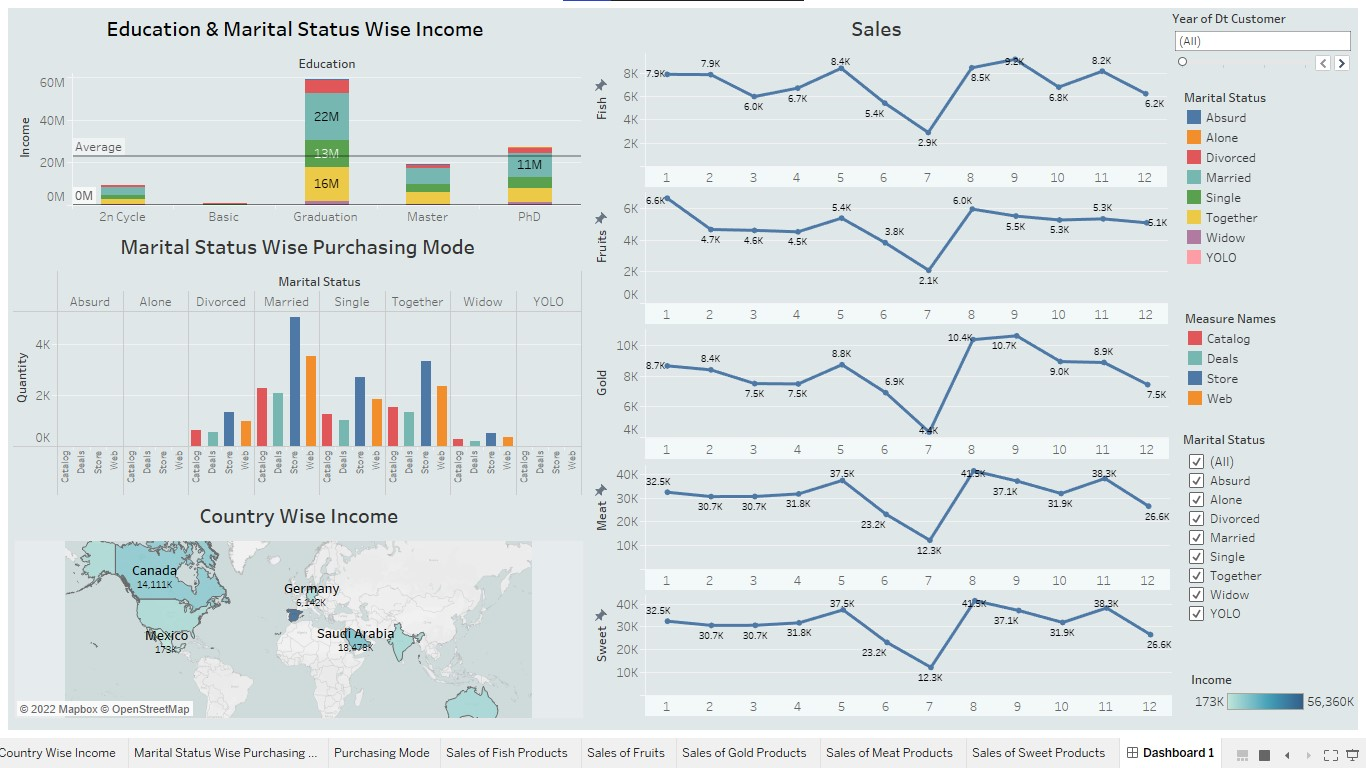

The page's visual inventory and layout, read from the dashboard file:
{"tool":"tableau","page":{"name":"Dashboard 1","canvas":[1000,1000],"units":"permille","ordinal":0},"visuals":[{"type":"worksheet","title":"Education & Marital Status Wise Income","mark":"Automatic","rows":["Income"],"cols":["Education"],"box":[6.9,13.5,418.4,292.2]},{"type":"worksheet","title":"Sales of Fish Products","mark":"Automatic","rows":["MntFishProducts"],"cols":["Dt_Customer"],"box":[429.1,13.5,425.4,239.9]},{"type":"filter","title":"Education & Marital Status Wise Income","param":"[federated.1705k4r06t32o11a5gyls11ckwc0].[yr:Dt_Customer:ok]","box":[858.2,13.5,133.1,126.7]},{"type":"legend","title":"Education & Marital Status Wise Income","param":"[federated.1705k4r06t32o11a5gyls11ckwc0].[none:Marital_Status:nk]","box":[867,119.9,122.5,300.7]},{"type":"worksheet","title":"Sales of Fruits","mark":"Automatic","rows":["MntFruits"],"cols":["Dt_Customer"],"box":[429.1,260.1,426.1,179.1]},{"type":"worksheet","title":"Marital Status Wise Purchasing Mode","mark":"Automatic","cols":["Marital_Status"],"box":[9.5,309.1,416.7,363.2]},{"type":"legend","title":"Marital Status Wise Purchasing Mode","param":"[federated.1705k4r06t32o11a5gyls11ckwc0].[:Measure Names]","box":[867.8,420.6,122.7,165.5]},{"type":"worksheet","title":"Sales of Gold Products","mark":"Automatic","rows":["MntGoldProds"],"cols":["Dt_Customer"],"box":[429.1,445.9,426.9,175.7]},{"type":"filter","title":"Sales of Fruits","param":"[federated.1705k4r06t32o11a5gyls11ckwc0].[none:Marital_Status:nk]","box":[866,584.5,123.6,342.9]},{"type":"worksheet","title":"Sales of Meat Products","mark":"Automatic","rows":["MntMeatProducts"],"cols":["Dt_Customer"],"box":[429.1,630.1,427.6,168.9]},{"type":"worksheet","title":"Country Wise Income","mark":"Automatic","box":[10.3,674,417.5,300.7]},{"type":"worksheet","title":"Sales of Sweet Products","mark":"Automatic","rows":["MntMeatProducts"],"cols":["Dt_Customer"],"box":[429.1,805.7,429.1,168.9]}]}

Visuals, with their boxes on the dashboard's canvas, which has no fixed pixel size, in thousandths of its width and height (x1, y1, x2, y2). These are canvas units, not pixel positions in the 1366x768 screenshot, which may show the page scaled, cropped or inside an application window:
"Education & Marital Status Wise Income" worksheet: 7,14,425,306
"Sales of Fish Products" worksheet: 429,14,854,253
"Education & Marital Status Wise Income" filter: 858,14,991,140
"Education & Marital Status Wise Income" legend: 867,120,990,421
"Sales of Fruits" worksheet: 429,260,855,439
"Marital Status Wise Purchasing Mode" worksheet: 10,309,426,672
"Marital Status Wise Purchasing Mode" legend: 868,421,990,586
"Sales of Gold Products" worksheet: 429,446,856,622
"Sales of Fruits" filter: 866,584,990,927
"Sales of Meat Products" worksheet: 429,630,857,799
"Country Wise Income" worksheet: 10,674,428,975
"Sales of Sweet Products" worksheet: 429,806,858,975
